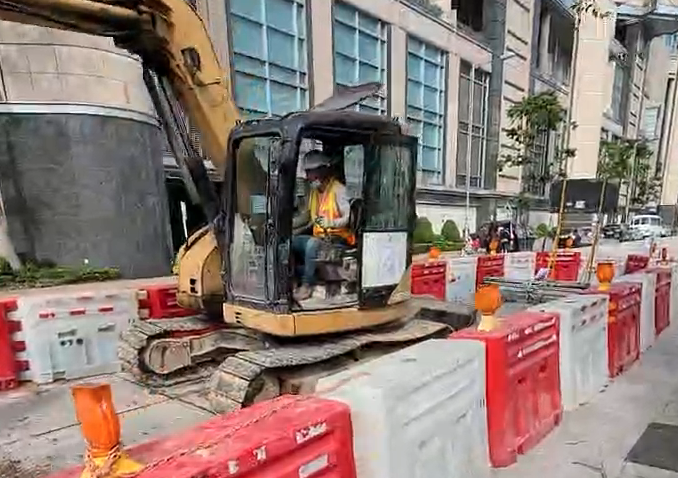Hard Hat: (300, 151, 334, 189)
Person: (299, 152, 354, 302)
Vest: (305, 172, 357, 245)
